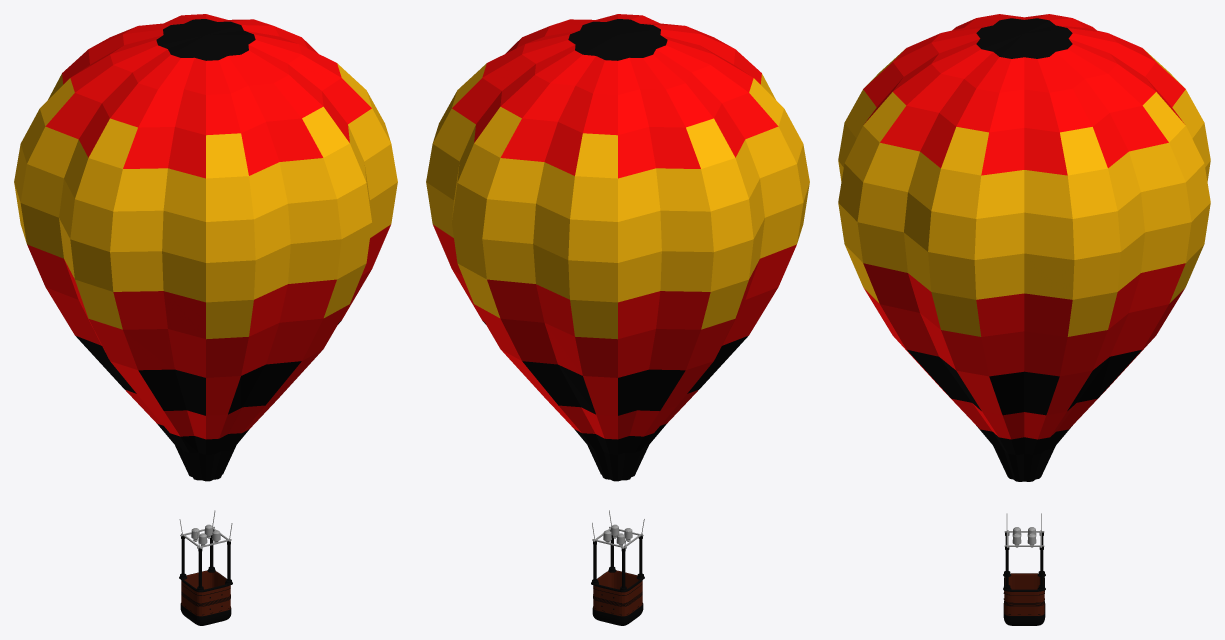
File: Ballon.FBX
3 renders of one model, left to right at view 1: azimuth 30°, elevation 25°; view 2: azimuth 150°, elevation 25°; view 3: azimuth 270°, elevation 25°, orthographic.
Parts seen in each view (by area): view 1: Sphere, Circle; view 2: Sphere, Circle; view 3: Sphere, Circle.
Part boxes in pixels (left/top/right/bottom): Sphere: left=14, top=14, right=397, bottom=481; Circle: left=179, top=510, right=232, bottom=625; Sphere: left=426, top=14, right=809, bottom=481; Circle: left=591, top=510, right=644, bottom=625; Sphere: left=838, top=14, right=1210, bottom=481; Circle: left=1003, top=513, right=1045, bottom=625.
Bounding box in the file's own units: 85.74 × 149 × 85.74.
